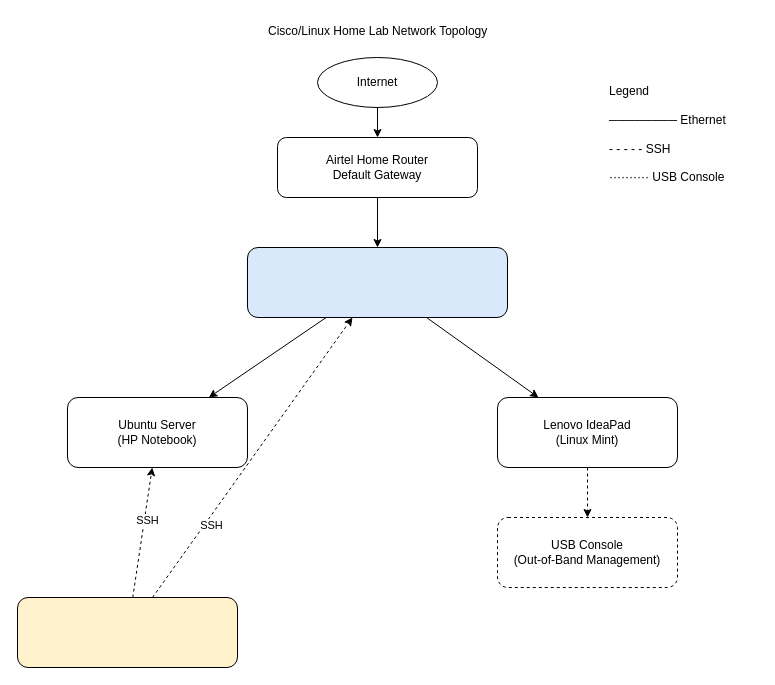
Image size: 775x685. Some labels were removed from this diagram. Here are the shapes that lost their labels. From the top down, the box of each, then its label:
(246, 246, 508, 318): Cisco Catalyst 2960X WS-C2960X-24TS-L
(16, 596, 238, 668): MacBook Air Remote Administration
